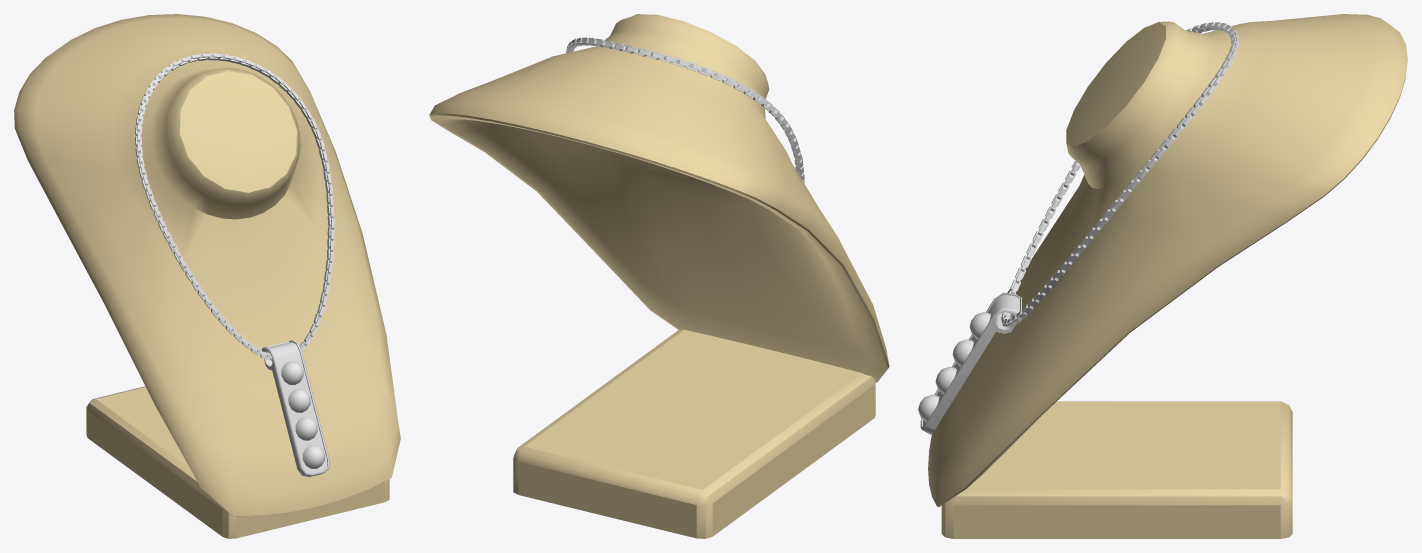
Rendered from Necklace_16.fbx.
3 renders of one model, left to right at view 1: azimuth 30°, elevation 25°; view 2: azimuth 150°, elevation 25°; view 3: azimuth 270°, elevation 25°, orthographic. The views are drawn at different scales.
Visible parts, largest first — view 1: SM_Stand_Necklace_11, SM_Necklace_12, SM_Cullon_4; view 2: SM_Stand_Necklace_11, SM_Necklace_12; view 3: SM_Stand_Necklace_11, SM_Necklace_12, SM_Cullon_4.
Part boxes in pixels (left/top/right/bottom): SM_Stand_Necklace_11: left=14, top=14, right=400, bottom=538; SM_Necklace_12: left=135, top=53, right=334, bottom=361; SM_Cullon_4: left=261, top=340, right=329, bottom=477; SM_Stand_Necklace_11: left=429, top=14, right=889, bottom=538; SM_Necklace_12: left=566, top=37, right=804, bottom=182; SM_Stand_Necklace_11: left=928, top=14, right=1407, bottom=538; SM_Necklace_12: left=1001, top=22, right=1239, bottom=327; SM_Cullon_4: left=918, top=292, right=1021, bottom=434.
Bounding box in the file's own units: 22.51 × 29.29 × 28.36.
